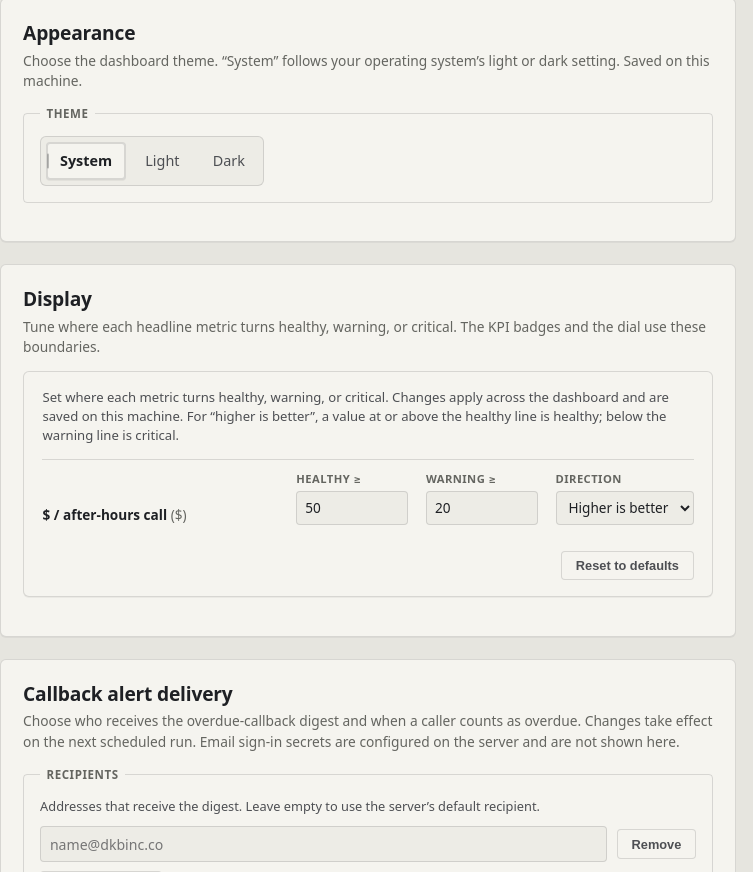
SettingsPage — Alerts (host build) › saves an edited recipient via PUT and confirms
Type "newrep@dkbinc.co" into the field named "Recipient 1" at (324, 844), box [40, 826, 607, 862]
(page scrolled)
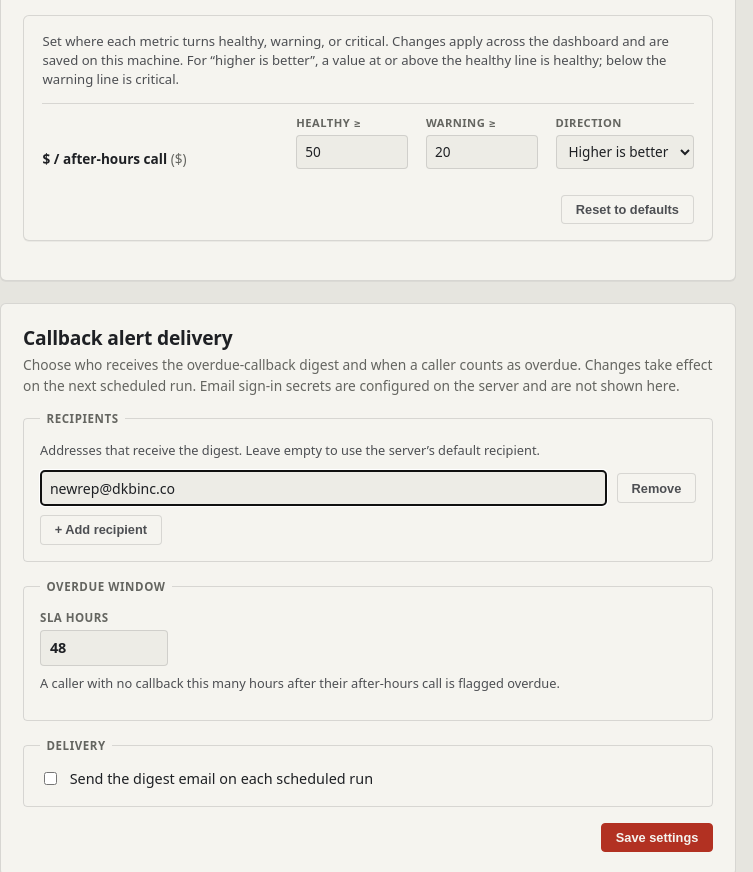
Click the button "Save settings" at (657, 838), box [601, 823, 713, 852]
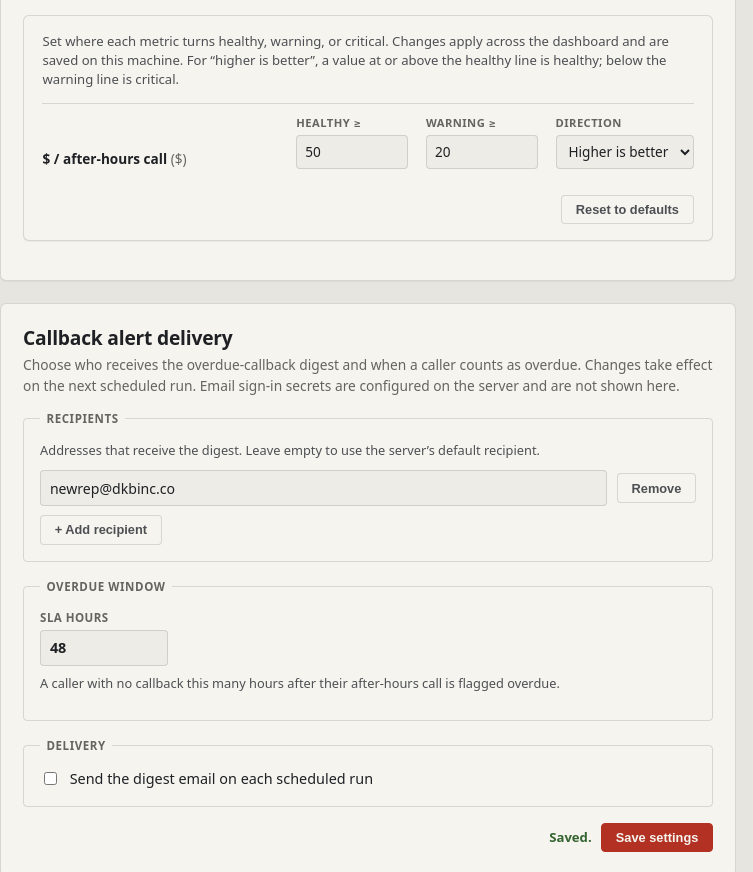
Expected: the text "Saved." is shown, [549, 828, 592, 847]
